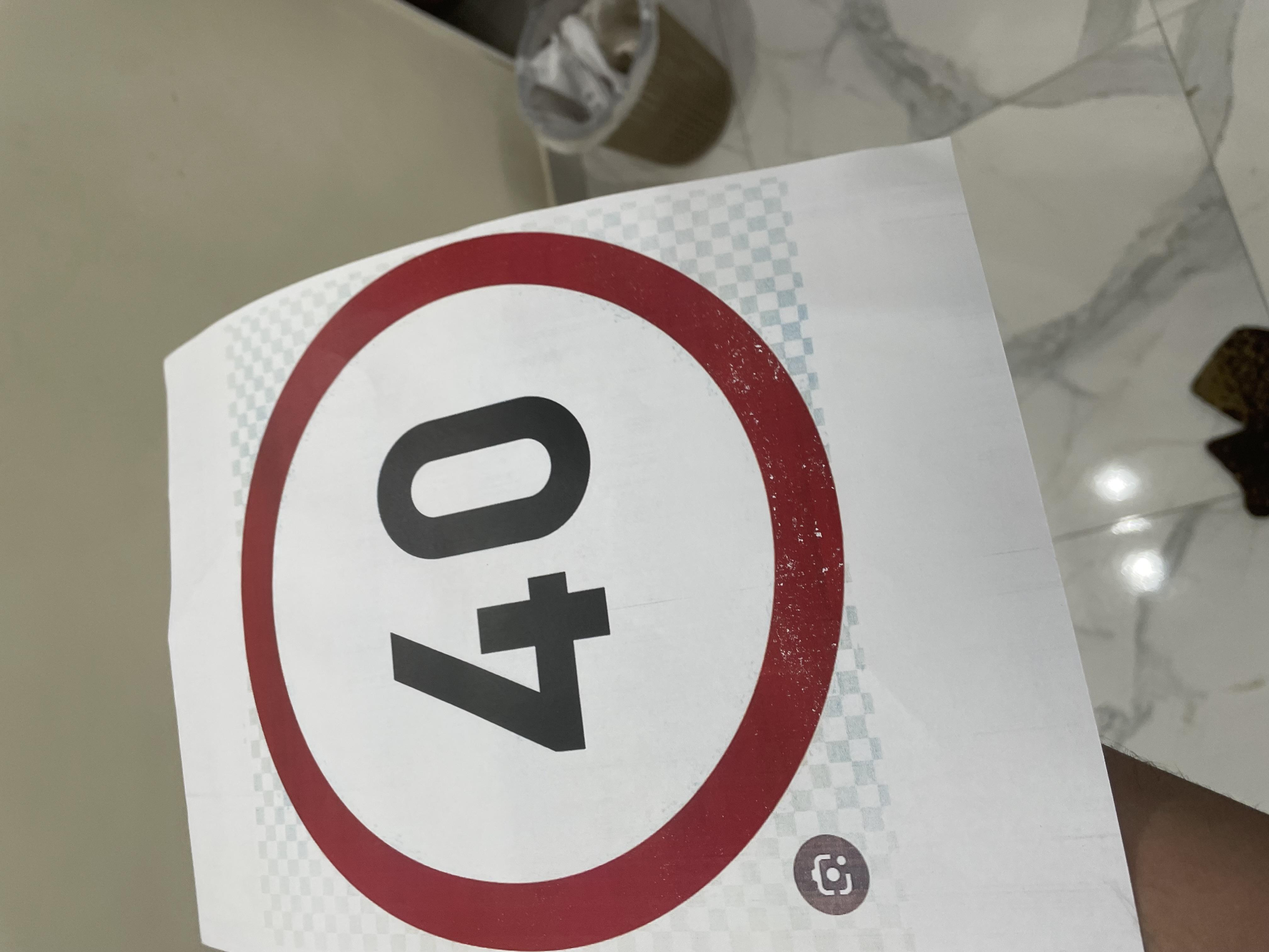40-Speed: (9, 168, 962, 632)
